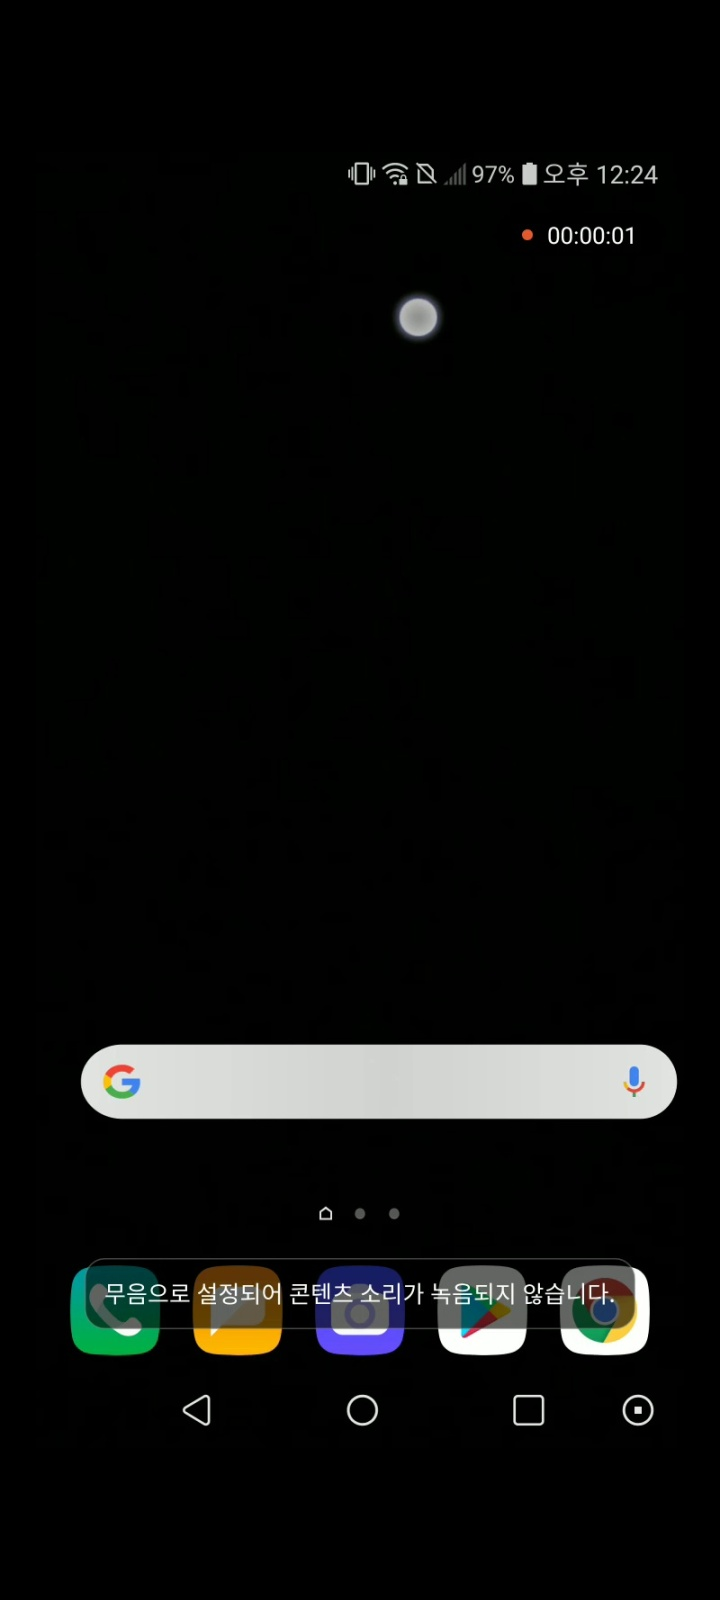Cursor: (396, 296, 441, 341)
